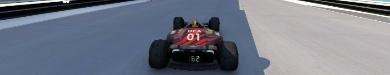Car: (147, 16, 238, 70)
